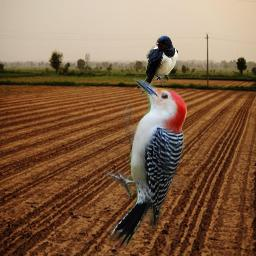Swallow: (136, 35, 178, 95)
Woodpecker: (107, 78, 187, 249)
